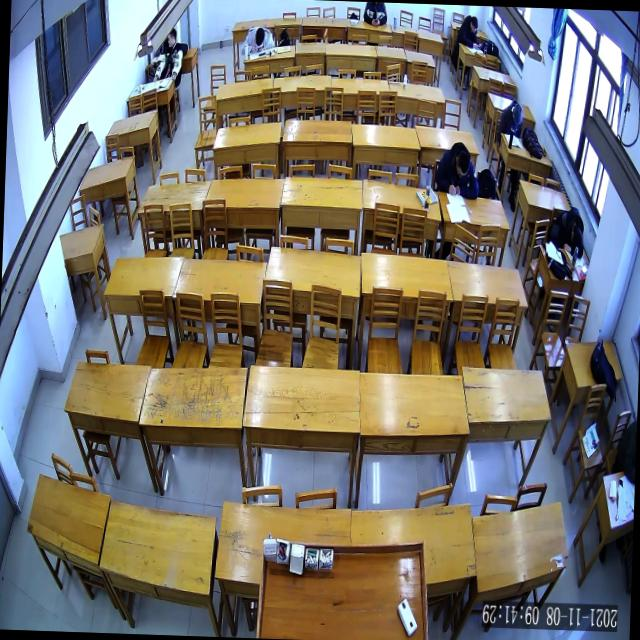bow: (548, 206, 584, 258), (240, 26, 274, 56)
down: (455, 150, 469, 178), (512, 103, 523, 125), (255, 27, 265, 46), (469, 16, 478, 33)
sit: (434, 141, 480, 200), (152, 28, 183, 82), (498, 99, 523, 138), (457, 13, 483, 50)
